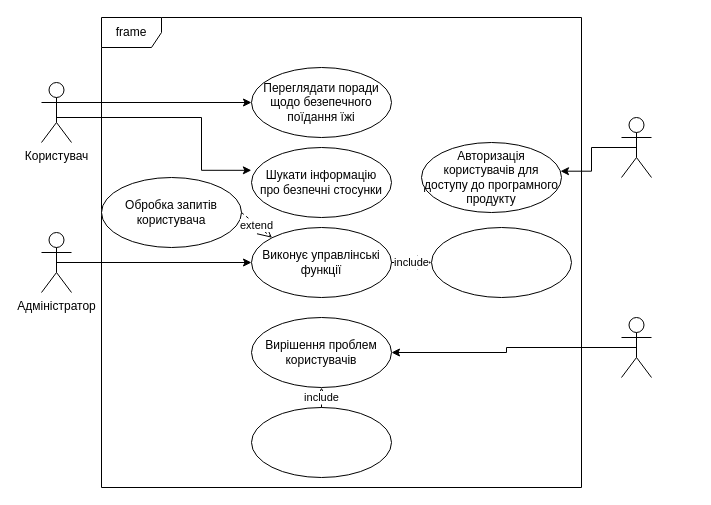
Image size: 711x505. Some labels were removed from this diagram. The shapes that lost their labels are listed below. From the top down, each one's centre as x and y in pixels, then its label:
the point at 636,147: Система авторизації
the point at 501,262: Керування системою
the point at 636,347: Підтримка
the point at 321,442: Допомога користувачам
